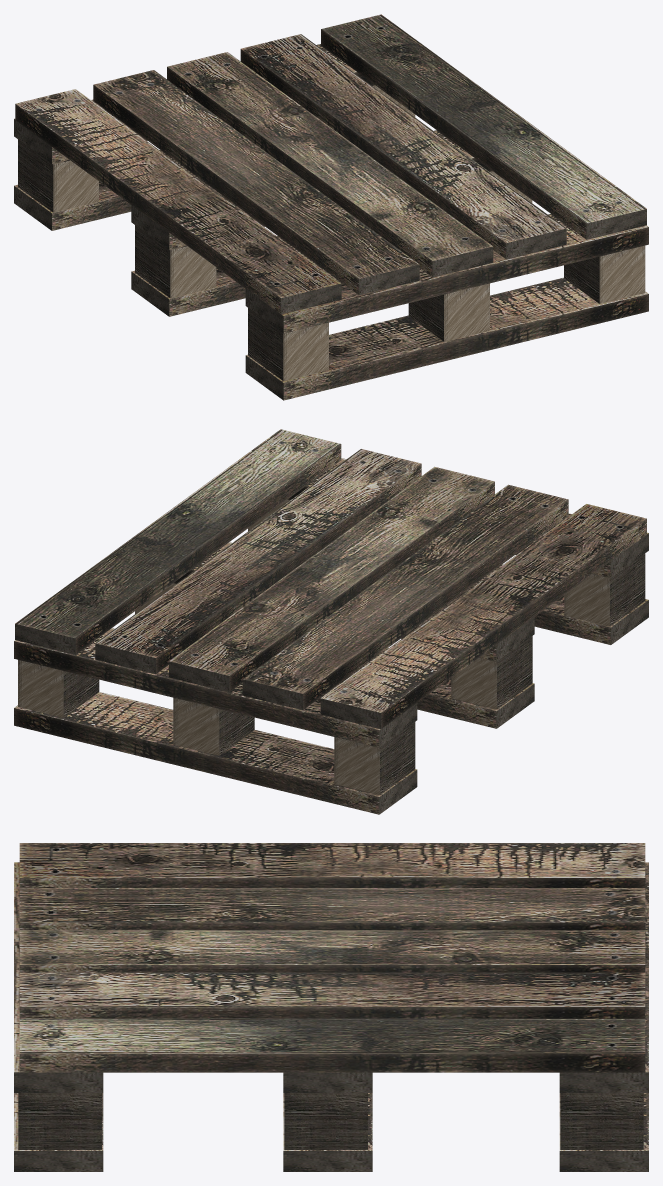
The model's file is dirty_palette.fbx.
3 views of the same model, one above another, from view 1: azimuth 30°, elevation 25°; view 2: azimuth 150°, elevation 25°; view 3: azimuth 270°, elevation 25° (orthographic). The views are drawn at different scales.
Parts seen in each view (by area): view 1: Box04; view 2: Box04; view 3: Box04.
Part boxes in pixels (x1,y1,x2,y2): Box04: (14,14,648,400); Box04: (14,429,648,814); Box04: (14,843,648,1171).
Bounding box in the file's own units: 62.32 × 16.38 × 79.48.
